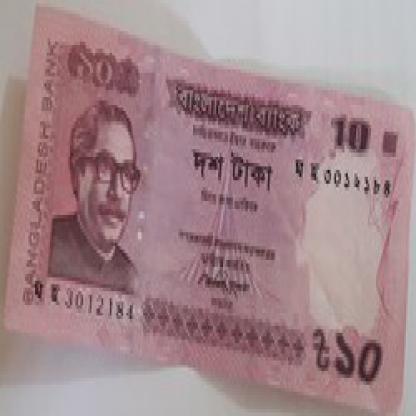Ten Taka: (333, 322, 388, 392), (60, 35, 116, 90), (325, 104, 376, 159)
